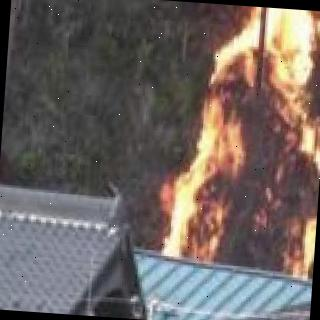fire: (158, 1, 320, 276)
